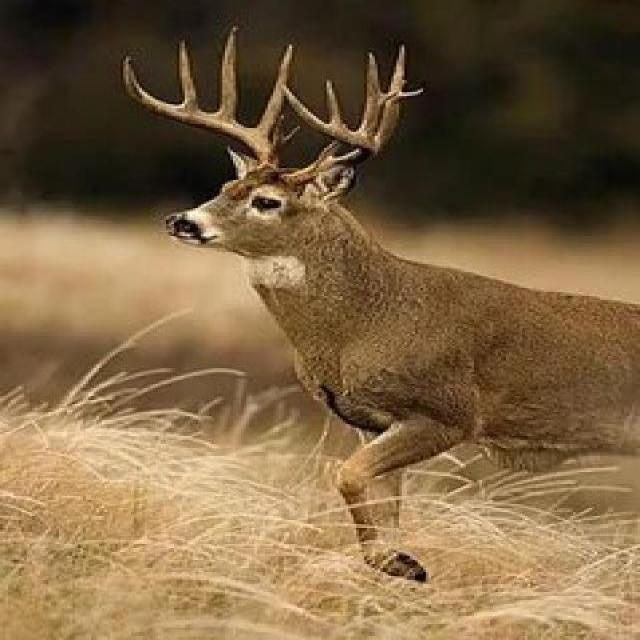deer: (157, 80, 640, 461)
